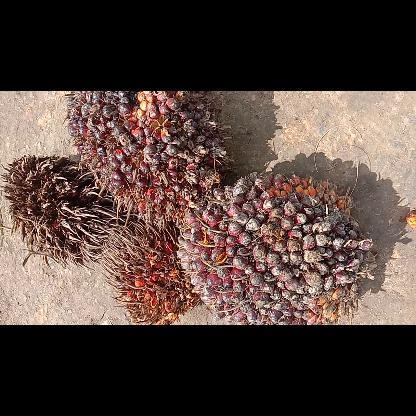Janjang kosong: (0, 152, 146, 270)
Kurang masak: (174, 170, 382, 324)
TBS masak: (60, 90, 235, 228)
Terlalu masak: (98, 220, 202, 324)
